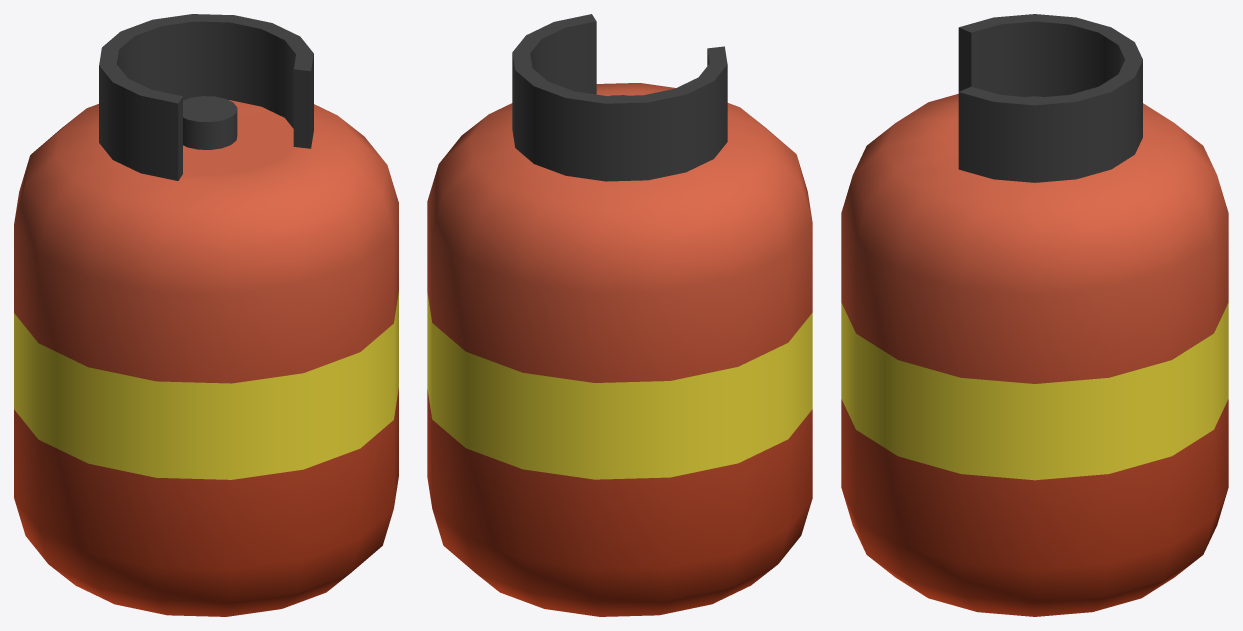
File: GasCylinder01.fbx
3 views of the same model, side by side, from view 1: azimuth 30°, elevation 25°; view 2: azimuth 150°, elevation 25°; view 3: azimuth 270°, elevation 25° (orthographic).
Visible parts, largest first — view 1: GasCylinder01; view 2: GasCylinder01; view 3: GasCylinder01.
Part boxes in pixels (x1=…): GasCylinder01: x1=14, y1=14, x2=398, y2=616; GasCylinder01: x1=427, y1=14, x2=812, y2=616; GasCylinder01: x1=841, y1=14, x2=1228, y2=616.
Bounding box in the file's own units: 0.6557 × 0.6557 × 0.9407.
